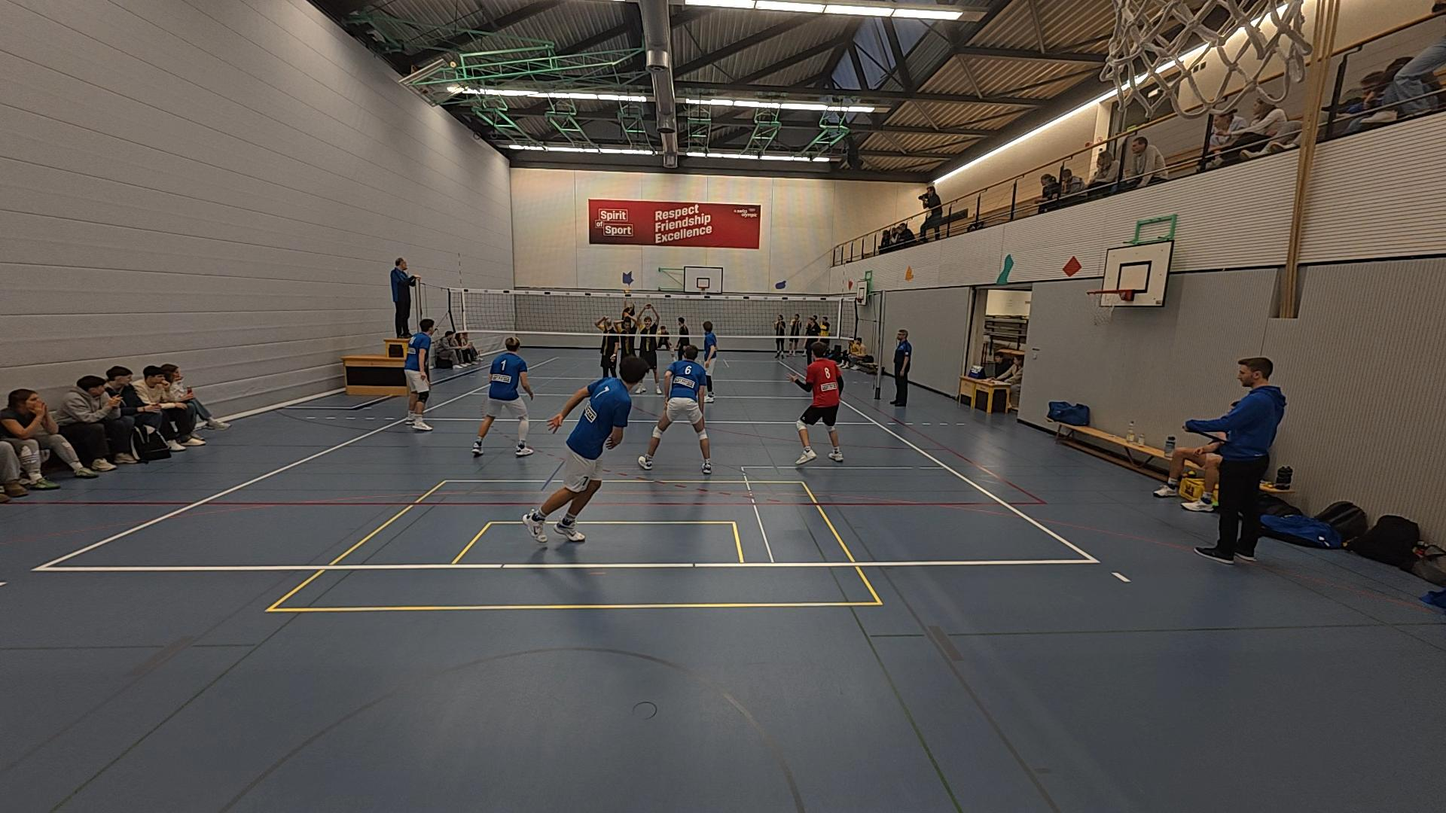Player: (524, 353, 634, 545), (639, 344, 712, 473), (472, 337, 536, 457), (792, 343, 844, 464), (404, 318, 438, 433), (606, 313, 645, 397), (637, 314, 668, 399), (595, 313, 621, 374), (699, 318, 722, 372), (653, 324, 678, 363), (673, 315, 691, 362)
Serve: (620, 289, 636, 319)
ball: (624, 289, 631, 295)
